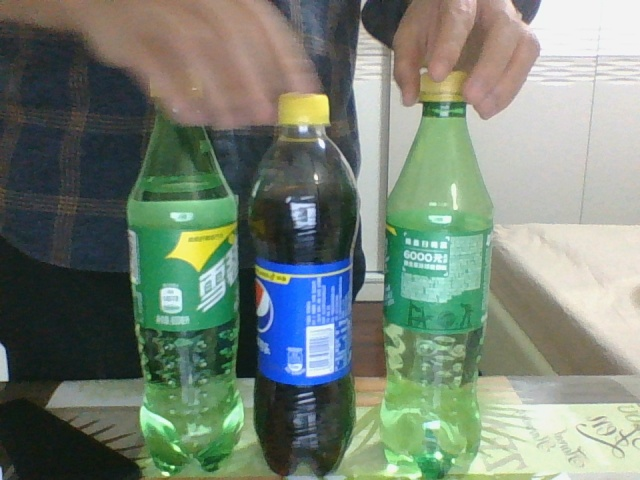Cola: (246, 93, 361, 474)
Sprite: (382, 71, 500, 477), (127, 96, 245, 476)
